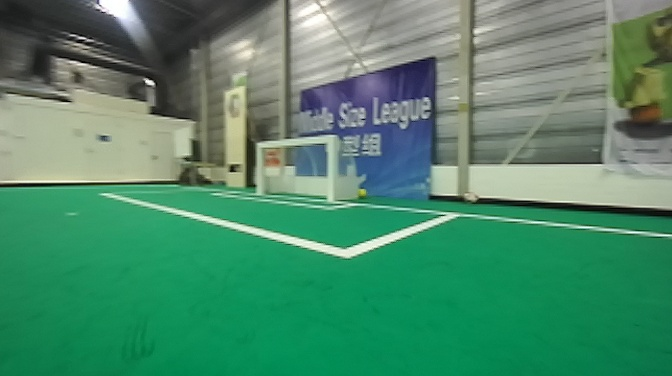ball: (458, 187, 483, 209), (352, 185, 366, 197)
goalpost: (320, 132, 341, 213), (254, 133, 271, 200)
